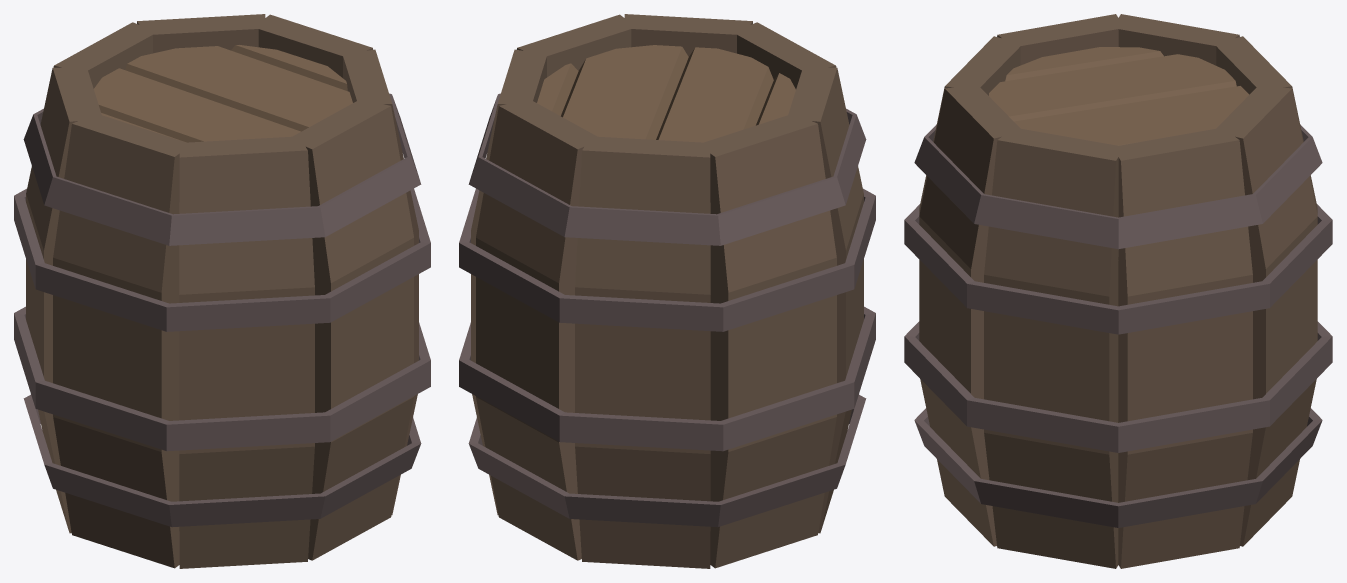
The model's file is barrel.fbx.
The picture shows the model from 3 angles, left to right: view 1: azimuth 30°, elevation 25°; view 2: azimuth 150°, elevation 25°; view 3: azimuth 270°, elevation 25°; orthographic projection.
Parts seen in each view (by area): view 1: Planks, Planks.001, Barel_top; view 2: Planks, Planks.001, Barel_top; view 3: Planks, Planks.001, Barel_top.
Boxes of the visible parts, box(x1,y1,x2,y2) form: Planks: box(26, 14, 418, 568); Planks.001: box(14, 93, 430, 527); Barel_top: box(94, 45, 352, 142); Planks: box(471, 14, 863, 568); Planks.001: box(459, 93, 875, 527); Barel_top: box(537, 45, 795, 142); Planks: box(919, 14, 1317, 568); Planks.001: box(904, 124, 1332, 527); Barel_top: box(989, 47, 1249, 145).
Size of the model in its own units: 418 by 440 by 418.
